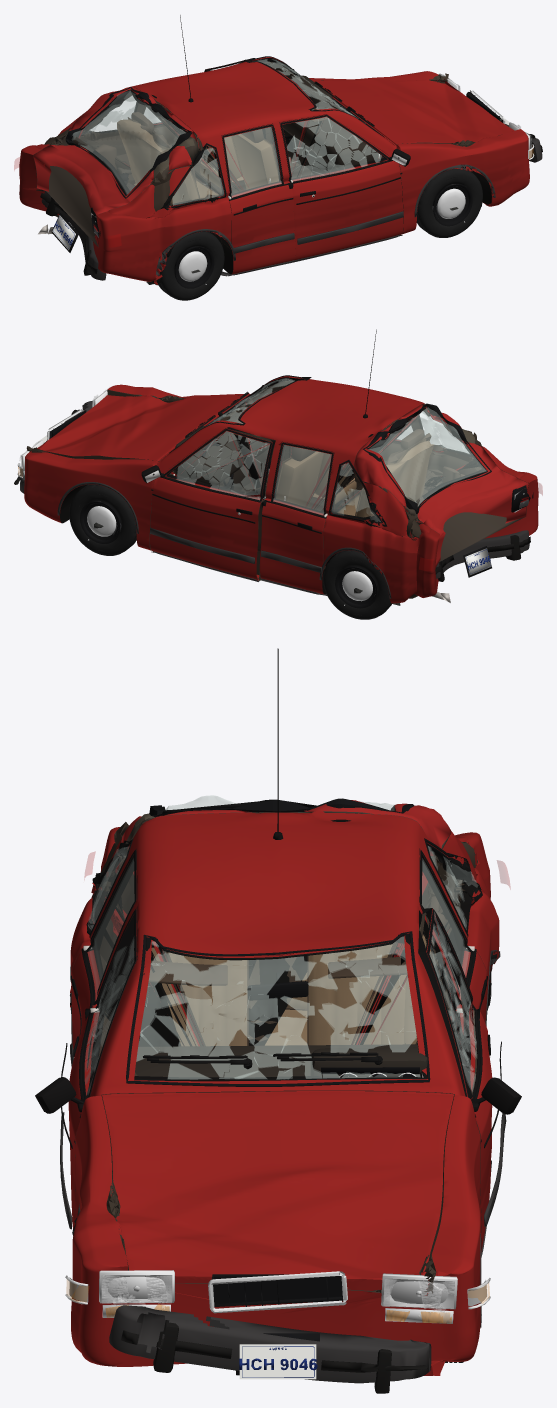
Rendered from hatchback85_rear_d1_lod1.glb.
The picture shows the model from 3 angles, top to bottom: view 1: azimuth 30°, elevation 25°; view 2: azimuth 150°, elevation 25°; view 3: azimuth 270°, elevation 25°; orthographic projection. The views are drawn at different scales.
Visible parts, largest first — view 1: Body, Interior, Hood, Hatch, Door_FR, Glass_Hatch, Door_RR, Wheel_FR_mesh, Wheel_RR_mesh, Glass, Glass_FR, Glass_RR (+6 smaller); view 2: Body, Interior, Door_FL, Hatch, Hood, Glass_Hatch, Door_RL, Glass_FL, Wheel_FL_mesh, Wheel_RL_mesh, Glass_RL, Glass (+5 smaller); view 3: Body, Hood, Glass, Interior, Ends, Bumper_F, Door_FL, Trim, Door_FR, Trim_FL, Hatch, Glass_FL (+10 smaller).
Part boxes in pixels (bbox=[...]): Body: bbox=[19, 57, 529, 285]; Interior: bbox=[95, 75, 378, 203]; Hood: bbox=[311, 78, 514, 145]; Hatch: bbox=[33, 86, 199, 247]; Door_FR: bbox=[279, 114, 403, 259]; Glass_Hatch: bbox=[65, 87, 191, 198]; Door_RR: bbox=[221, 123, 295, 274]; Wheel_FR_mesh: bbox=[416, 168, 482, 237]; Wheel_RR_mesh: bbox=[158, 231, 224, 300]; Glass: bbox=[90, 56, 384, 210]; Glass_FR: bbox=[280, 117, 387, 182]; Glass_RR: bbox=[222, 127, 283, 197]; Body: bbox=[24, 376, 538, 603]; Interior: bbox=[174, 383, 464, 517]; Door_FL: bbox=[150, 427, 275, 580]; Hatch: bbox=[354, 404, 528, 567]; Hood: bbox=[37, 395, 246, 461]; Glass_Hatch: bbox=[363, 403, 491, 513]; Door_RL: bbox=[259, 441, 334, 594]; Glass_FL: bbox=[166, 428, 272, 501]; Wheel_FL_mesh: bbox=[69, 484, 136, 555]; Wheel_RL_mesh: bbox=[323, 550, 392, 619]; Glass_RL: bbox=[271, 445, 333, 515]; Glass: bbox=[169, 375, 469, 527]; Body: bbox=[70, 811, 499, 1375]; Hood: bbox=[101, 1091, 454, 1290]; Glass: bbox=[88, 842, 482, 1086]; Interior: bbox=[135, 875, 446, 1077]; Ends: bbox=[65, 1270, 490, 1379]; Bumper_F: bbox=[109, 1305, 431, 1393]; Door_FL: bbox=[418, 908, 492, 1252]; Trim: bbox=[70, 648, 500, 1327]; Door_FR: bbox=[68, 907, 137, 1228]; Trim_FL: bbox=[427, 909, 521, 1257]; Hatch: bbox=[120, 799, 451, 862]; Glass_FL: bbox=[425, 909, 476, 1091].
Bounding box in the file's own units: 4.11 × 2.14 × 1.93.
Materials: 33 (5 with a texture image).
